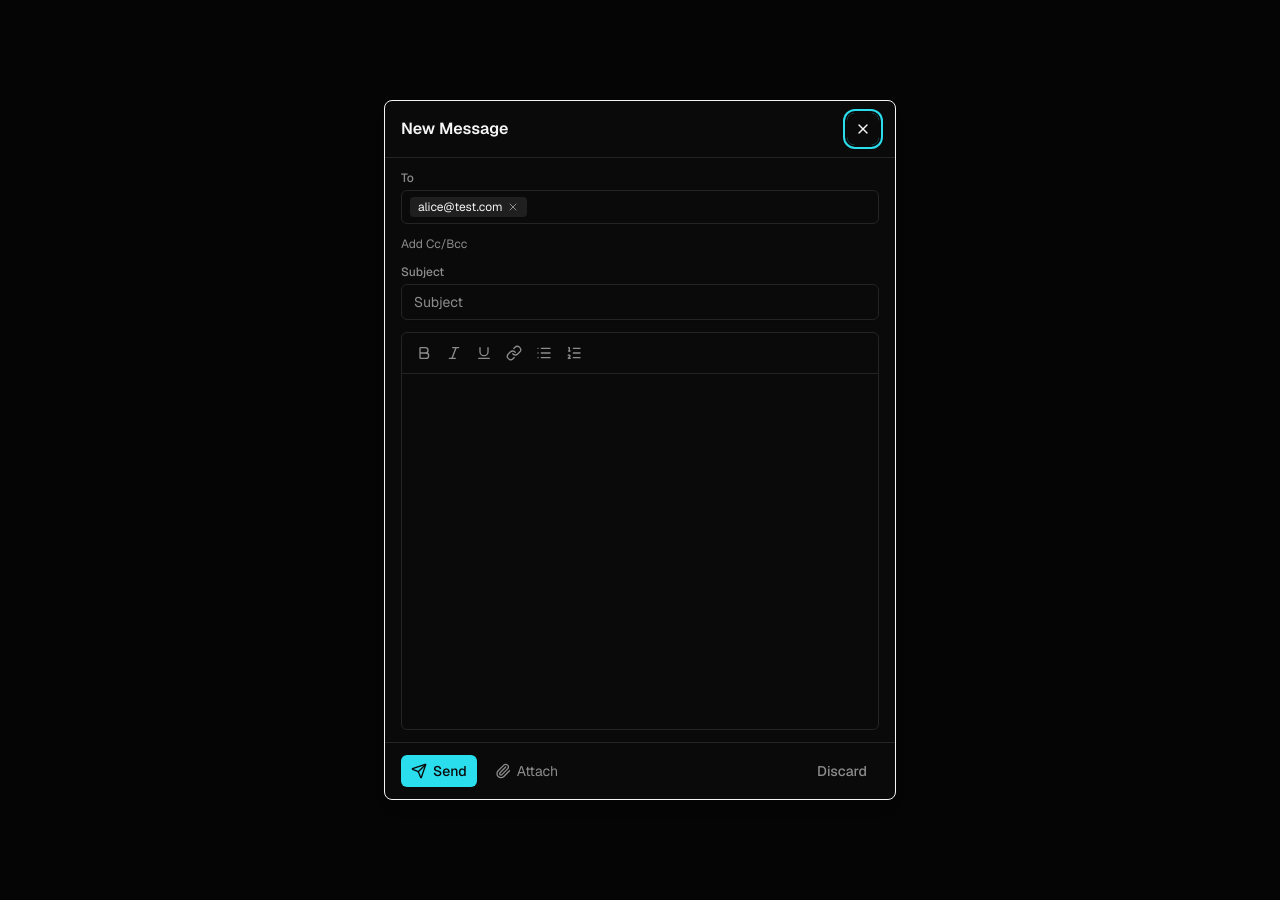
Test: ComposeDialog — draft persistence › shows save-draft dialog on close with content
Click the button named "Close compose" at (863, 129), box [847,113,879,145]
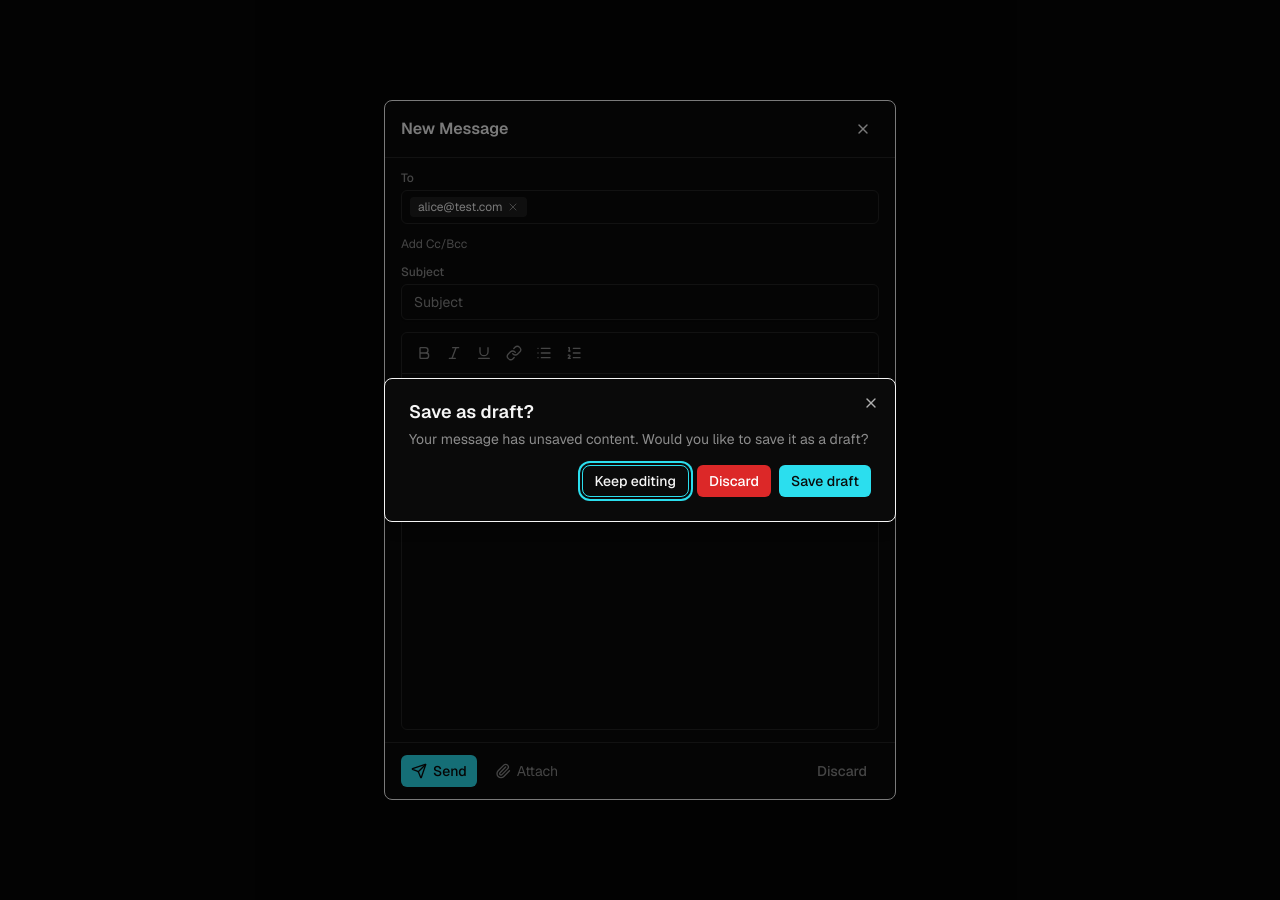
Now the heading "Save as draft?" is shown, box [409,400,534,423]
Now the button with test id "save-draft-btn" is shown, box [779,465,871,497]
Now the button with test id "discard-draft-btn" is shown, box [697,465,771,497]
